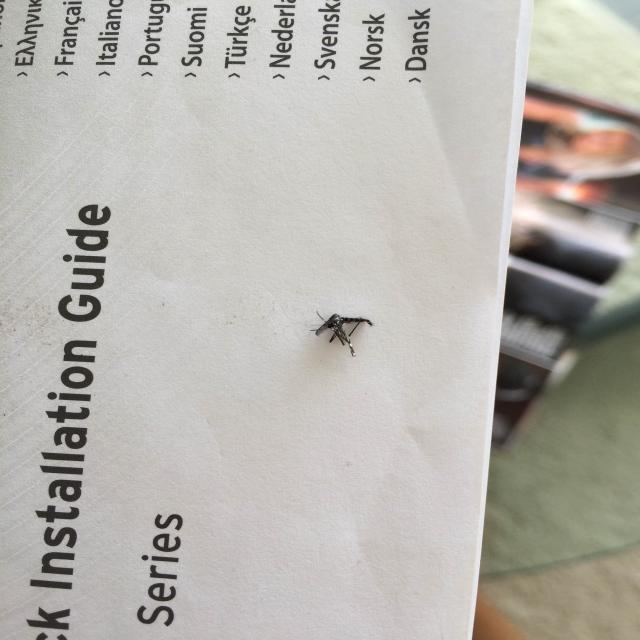albopictus: (308, 305, 378, 359)
